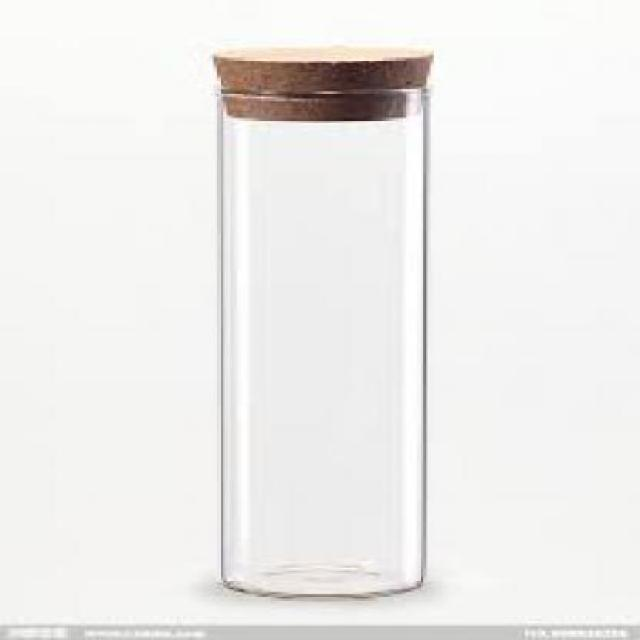kaca: (211, 84, 423, 594)
